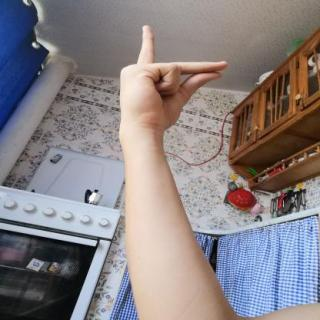TAA: (110, 20, 237, 140)
